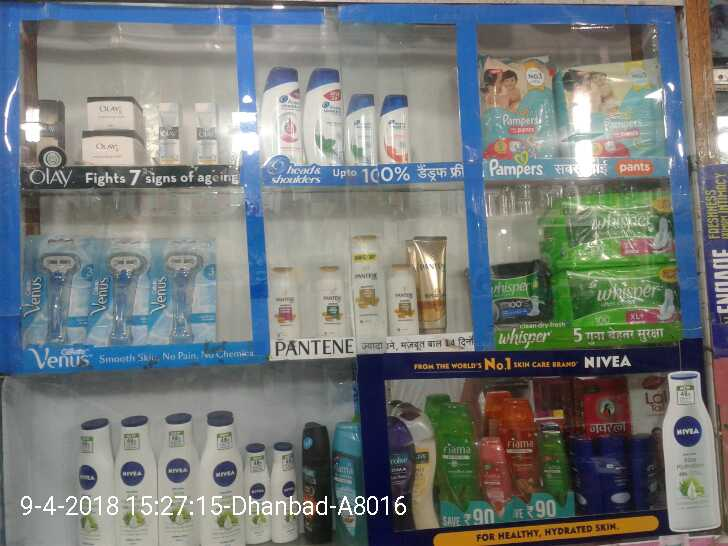venus: (148, 235, 218, 344), (86, 235, 148, 344), (25, 235, 87, 344)
